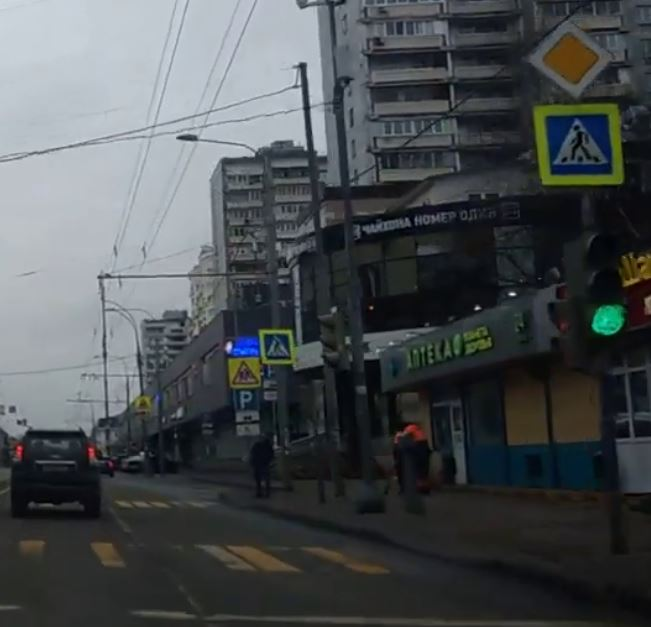Yaya Gecidi: (548, 111, 613, 173)
